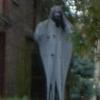Statue: (33, 4, 79, 94)
